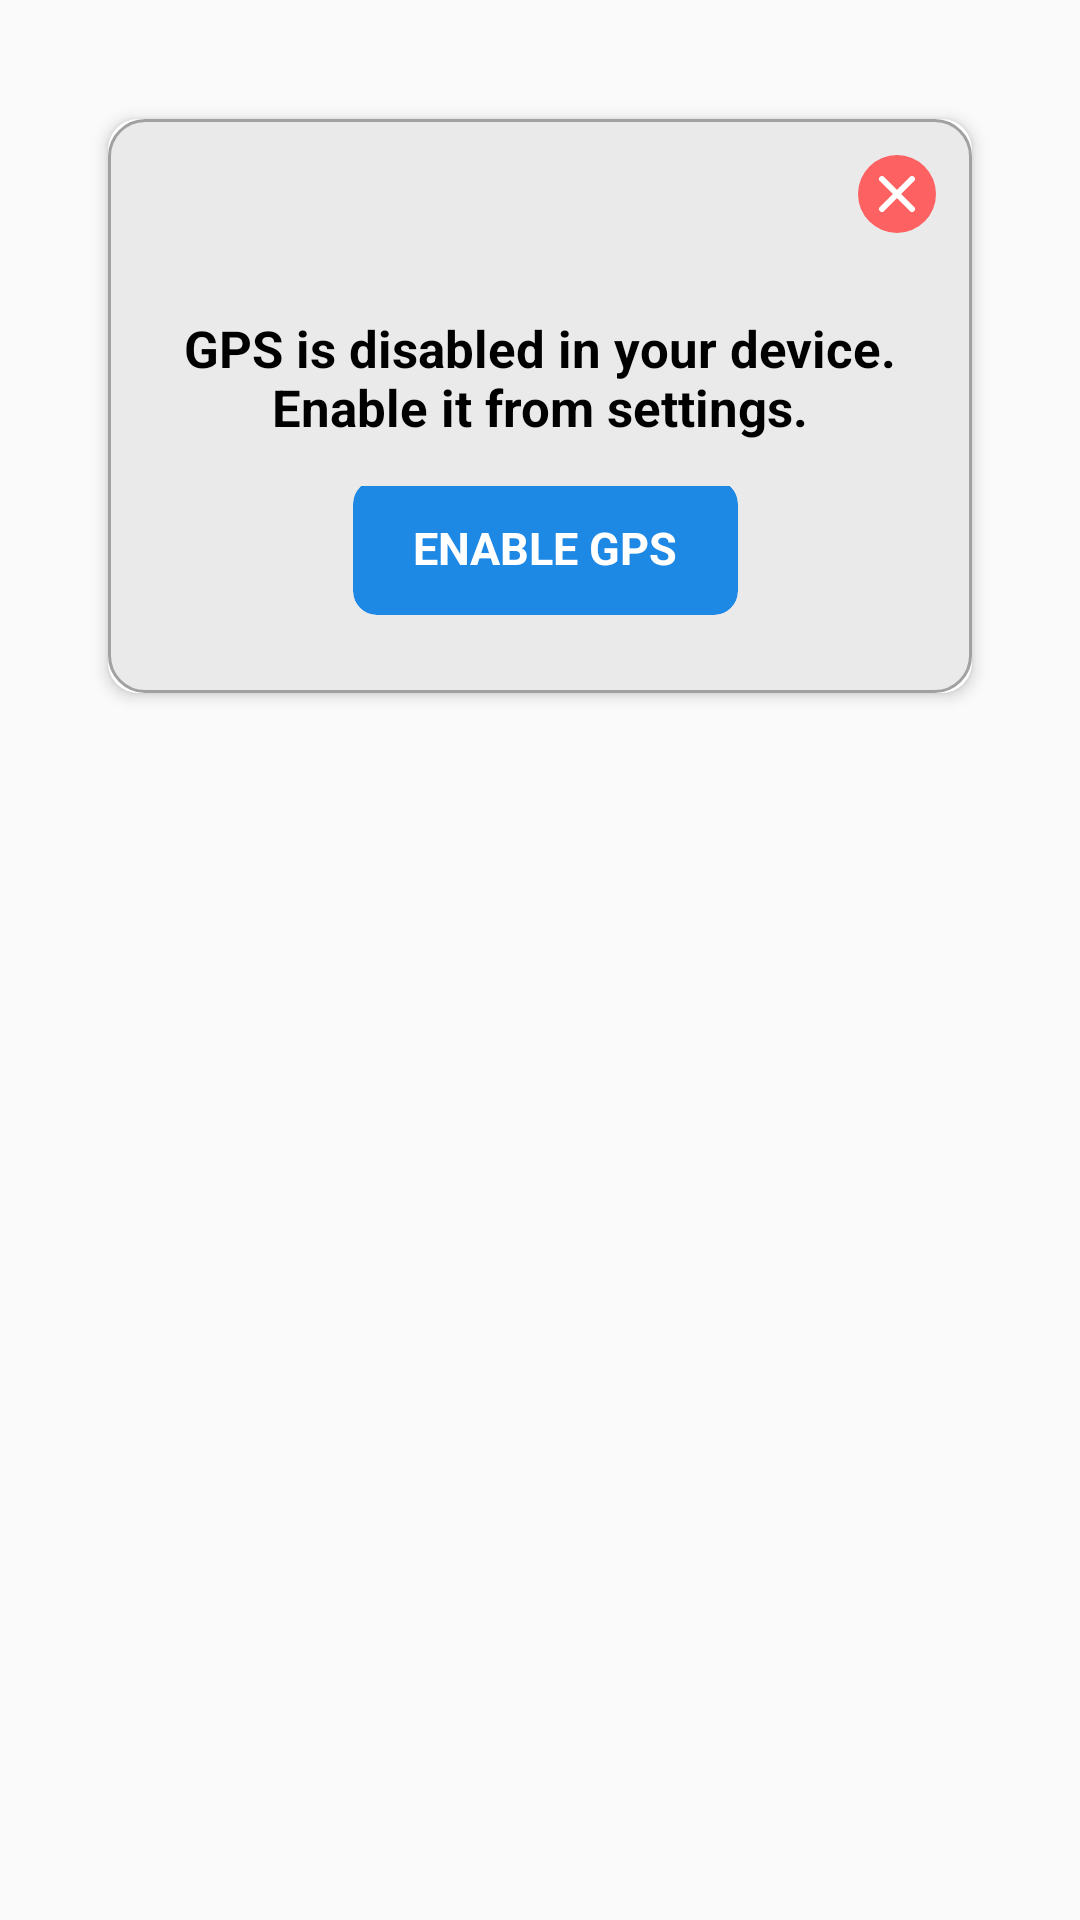

Named icons in this screenshot (1080*1920) and their bounding boxes, bbox=(x1, y1, x2, y2):
cancel: bbox=(858, 155, 936, 233)
